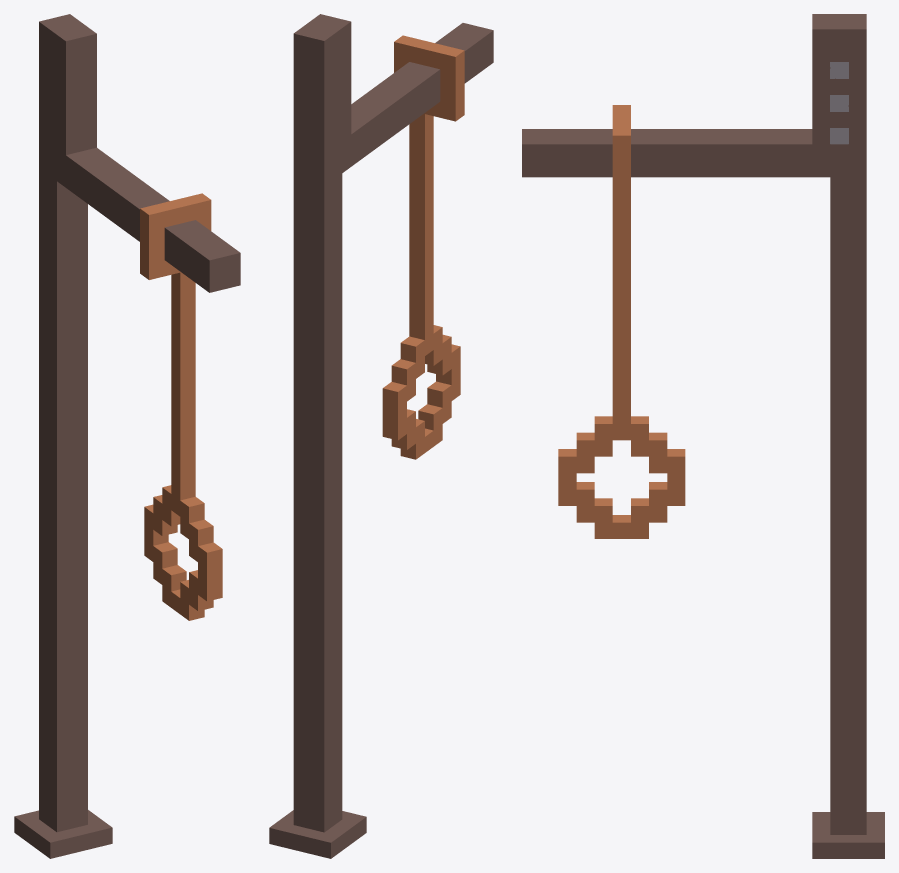
File: small gallows.obj
The picture shows the model from 3 angles, left to right: view 1: azimuth 30°, elevation 25°; view 2: azimuth 150°, elevation 25°; view 3: azimuth 270°, elevation 25°; orthographic projection.
Size of the model in its own units: 4 by 50 by 20.
Materials: 1 (1 with a texture image).
